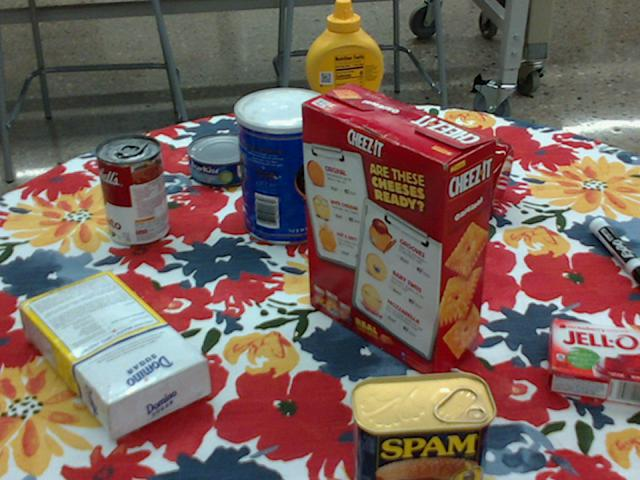cracker_box: (300, 85, 494, 383)
gelatin_box: (546, 318, 639, 403)
large_marker: (589, 216, 639, 285)
master_chef_can: (234, 87, 333, 245)
mug: (422, 122, 511, 211)
mustard_bottle: (305, 0, 383, 157)
potted_meat_can: (348, 372, 495, 479)
sugar_box: (20, 273, 209, 437)
tomato_soup_can: (96, 134, 168, 246)
tuna_fish_can: (188, 132, 259, 186)
